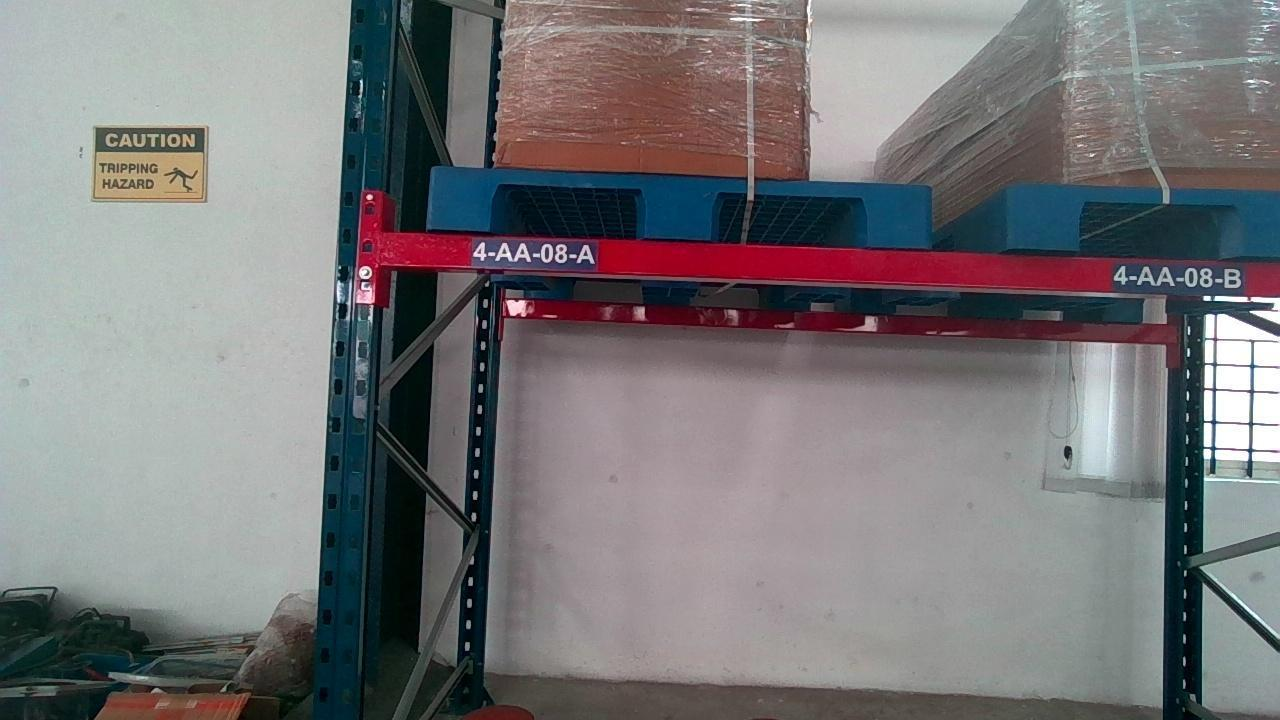h_rack: (382, 233, 1280, 292)
small_pallet: (429, 169, 931, 238), (1012, 183, 1280, 254)
